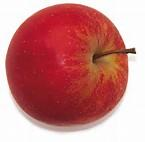apple: (5, 7, 127, 129)
